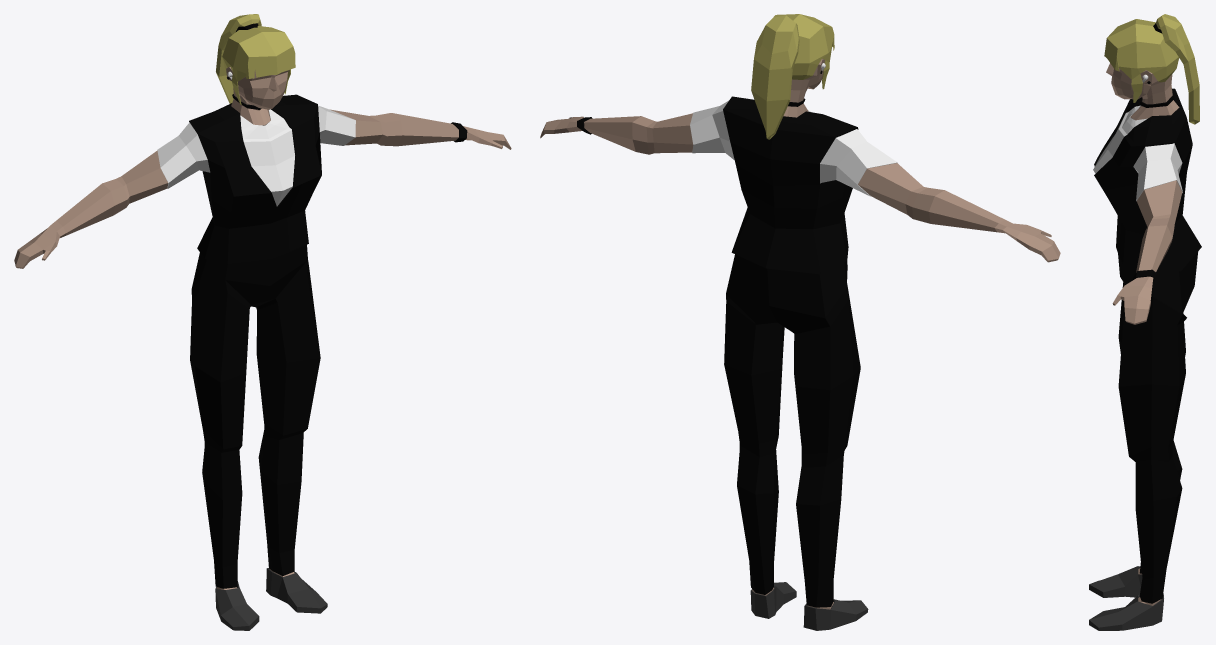
File: basist.fbx
3 renders of one model, left to right at view 1: azimuth 30°, elevation 25°; view 2: azimuth 150°, elevation 25°; view 3: azimuth 270°, elevation 25°, orthographic. The views are drawn at different scales.
Visible parts, largest first — view 1: PANTS, vest, body, Shirt, hair2, SHOE; view 2: PANTS, vest, body, hair2, Shirt, SHOE; view 3: PANTS, vest, body, hair2, SHOE, Shirt.
Part boxes in pixels (x1,y1,x2,y2): PANTS: [190, 244, 320, 588]; vest: [189, 94, 321, 263]; body: [14, 67, 511, 589]; Shirt: [157, 105, 355, 206]; hair2: [216, 14, 295, 104]; SHOE: [215, 568, 327, 630]; PANTS: [724, 254, 860, 607]; vest: [723, 96, 858, 274]; body: [540, 59, 1060, 609]; hair2: [751, 14, 834, 139]; Shirt: [690, 100, 897, 196]; SHOE: [750, 582, 868, 630]; PANTS: [1118, 251, 1198, 603]; vest: [1094, 88, 1201, 271]; body: [1106, 63, 1182, 605]; hair2: [1104, 14, 1199, 124]; SHOE: [1089, 566, 1163, 630]; Shirt: [1093, 105, 1182, 201].
Bounding box in the file's own units: 290 × 326 × 56.39.
